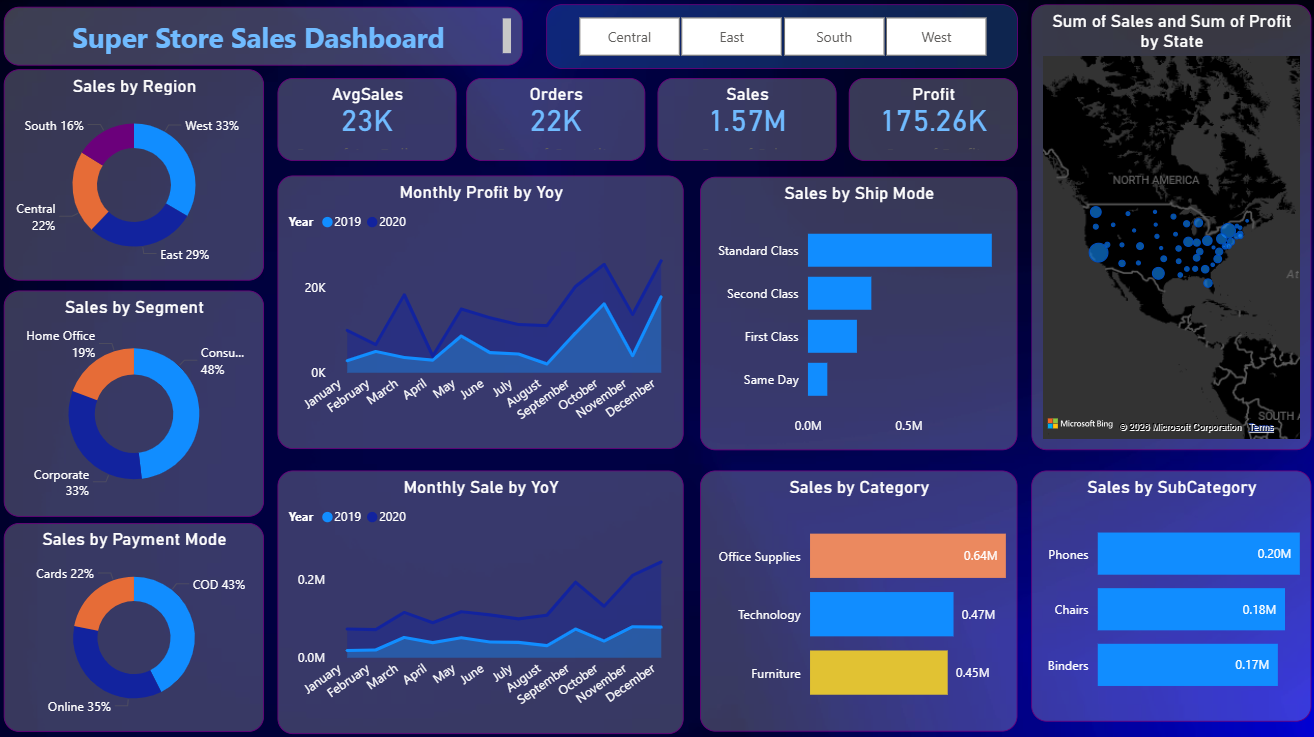

Layout of this report page (visuals, bound fields, positions):
{"tool":"powerbi","page":{"name":"Page 1","canvas":[1280,720],"ordinal":0},"visuals":[{"type":"clusteredBarChart","title":"Sales by Category","fields":{"Category":["SuperStore_Sales_Dataset.Category"],"Y":["Sum(SuperStore_Sales_Dataset.Sales)"]},"box":[680.4,456,306.4,252.1],"z":0},{"type":"clusteredBarChart","title":"Sales by SubCategory","fields":{"Category":["SuperStore_Sales_Dataset.Sub-Category"],"Y":["Sum(SuperStore_Sales_Dataset.Sales)"]},"box":[1000.1,456,270.2,242.5],"z":1000},{"type":"clusteredBarChart","title":"Sales by Ship Mode","fields":{"Category":["SuperStore_Sales_Dataset.Ship Mode"],"Y":["Sum(SuperStore_Sales_Dataset.Sales)"]},"box":[680.4,172.5,306.4,264.2],"z":2000},{"type":"stackedAreaChart","title":"Monthly Sale by YoY","fields":{"Y":["Sum(SuperStore_Sales_Dataset.Sales)"],"Category":["SuperStore_Sales_Dataset.Order Date.Variation.Date Hierarchy.Month","SuperStore_Sales_Dataset.Order Date.Variation.Date Hierarchy.Day"],"Series":["SuperStore_Sales_Dataset.Order Date.Variation.Date Hierarchy.Year"]},"box":[272.7,456,392.1,254.6],"z":3000},{"type":"stackedAreaChart","title":"Monthly Profit by Yoy","fields":{"Category":["SuperStore_Sales_Dataset.Order Date.Variation.Date Hierarchy.Month","SuperStore_Sales_Dataset.Order Date.Variation.Date Hierarchy.Day"],"Series":["SuperStore_Sales_Dataset.Order Date.Variation.Date Hierarchy.Year"],"Y":["Sum(SuperStore_Sales_Dataset.Profit)"]},"box":[272.7,171.3,392.1,264.2],"z":4000},{"type":"map","fields":{"Category":["SuperStore_Sales_Dataset.State"],"Size":["Sum(SuperStore_Sales_Dataset.Sales)"]},"box":[1000.1,6,270.2,430.7],"z":5000},{"type":"donutChart","title":" Sales by Segment","fields":{"Category":["SuperStore_Sales_Dataset.Segment"],"Y":["Sum(SuperStore_Sales_Dataset.Sales)"]},"box":[8.4,282.3,250.9,218.4],"z":6000},{"type":"donutChart","title":"Sales by Payment Mode","fields":{"Category":["SuperStore_Sales_Dataset.Payment Mode","SuperStore_Sales_Dataset.Segment"],"Y":["Sum(SuperStore_Sales_Dataset.Sales)"]},"box":[8.4,506.7,250.9,201.5],"z":7000},{"type":"slicer","fields":{"Values":["SuperStore_Sales_Dataset.Region"]},"box":[532,6,454.8,62.7],"z":8000},{"type":"textbox","box":[8.4,8.4,500.7,56.7],"z":9000},{"type":"card","title":"Orders","fields":{"Values":["Sum(SuperStore_Sales_Dataset.Quantity)"]},"box":[454.8,77.2,172.5,79.6],"z":10000},{"type":"card","title":"AvgSales","fields":{"Values":["Sum(SuperStore_Sales_Dataset.AvgDelivery)"]},"box":[272.7,77.2,172.5,79.6],"z":11000},{"type":"donutChart","title":"Sales by Region","fields":{"Category":["SuperStore_Sales_Dataset.Region"],"Y":["Sum(SuperStore_Sales_Dataset.Sales)"]},"box":[8.4,68.8,250.9,203.9],"z":12000},{"type":"card","title":"Sales","fields":{"Values":["Sum(SuperStore_Sales_Dataset.Sales)"]},"box":[639.4,77.2,172.5,79.6],"z":13000},{"type":"card","title":"Profit","fields":{"Values":["Sum(SuperStore_Sales_Dataset.Profit)"]},"box":[824,77.2,162.9,79.6],"z":14000}]}

Visuals, with their boxes in screenshot pixels (x1, y1, x2, y2), scaled from the page's 1280x720 canvas onto the 1314x737 screenshot:
"Sales by Category" clusteredBarChart: x1=698 y1=467 x2=1013 y2=725
"Sales by SubCategory" clusteredBarChart: x1=1027 y1=467 x2=1304 y2=715
"Sales by Ship Mode" clusteredBarChart: x1=698 y1=177 x2=1013 y2=447
"Monthly Sale by YoY" stackedAreaChart: x1=280 y1=467 x2=682 y2=727
"Monthly Profit by Yoy" stackedAreaChart: x1=280 y1=175 x2=682 y2=446
map - SuperStore_Sales_Dataset.State x Sum(SuperStore_Sales_Dataset.Sales): x1=1027 y1=6 x2=1304 y2=447
" Sales by Segment" donutChart: x1=9 y1=289 x2=266 y2=513
"Sales by Payment Mode" donutChart: x1=9 y1=519 x2=266 y2=725
slicer - SuperStore_Sales_Dataset.Region: x1=546 y1=6 x2=1013 y2=70
textbox: x1=9 y1=9 x2=523 y2=67
"Orders" card: x1=467 y1=79 x2=644 y2=161
"AvgSales" card: x1=280 y1=79 x2=457 y2=161
"Sales by Region" donutChart: x1=9 y1=70 x2=266 y2=279
"Sales" card: x1=656 y1=79 x2=833 y2=161
"Profit" card: x1=846 y1=79 x2=1013 y2=161
